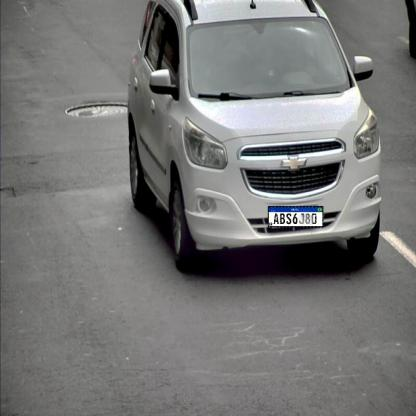PlacaM: (268, 206, 323, 227)
